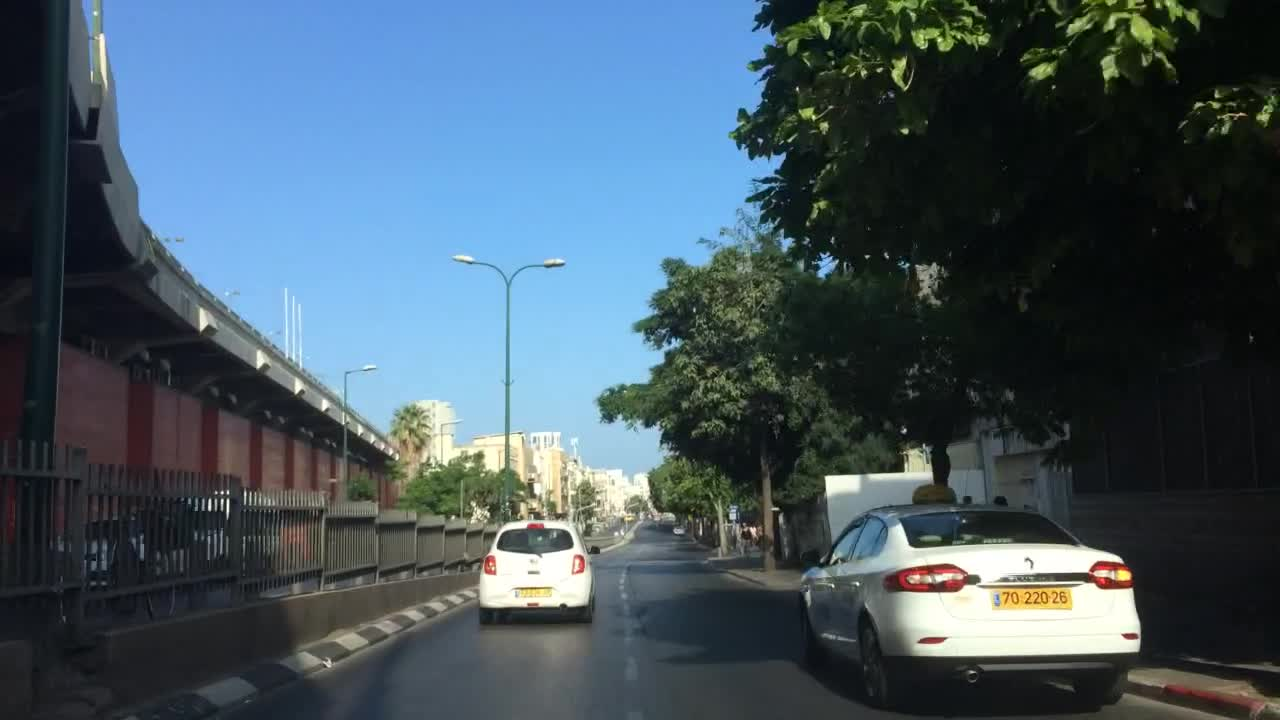car: (794, 500, 1141, 711), (477, 519, 596, 624), (158, 486, 283, 578), (56, 508, 183, 589), (581, 520, 597, 537), (671, 523, 688, 538), (623, 509, 638, 522), (644, 509, 656, 519), (606, 512, 617, 522), (599, 518, 611, 527), (592, 522, 605, 530), (653, 513, 663, 523)
person: (738, 520, 753, 553), (750, 520, 760, 552), (991, 493, 1010, 507), (755, 519, 763, 550), (959, 493, 974, 503)
traffic sign: (729, 509, 737, 522)
